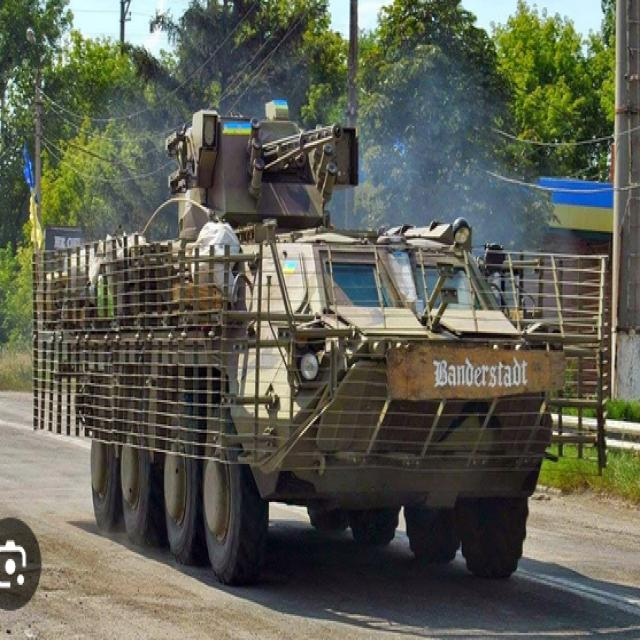MIL_APC: (35, 121, 625, 596)
